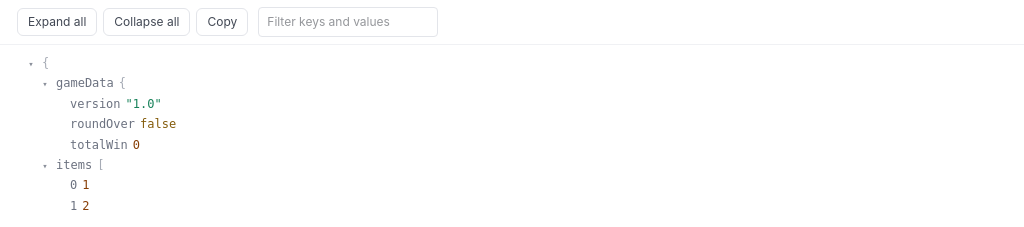
Scenario: JsonTree › hides a branch when it is collapsed, and brings it back when reopened
Click the button named "Collapse gameData".
click(45, 85)  # box [39,77,51,93]
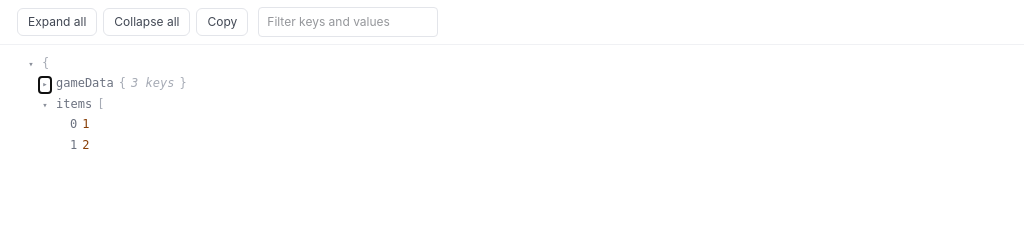
expect the text "version" is gone: met
expect the text "3 keys" is shown: met, box [131,76,174,90]
Click the button named "Expand gameData".
click(45, 85)  # box [39,77,51,93]
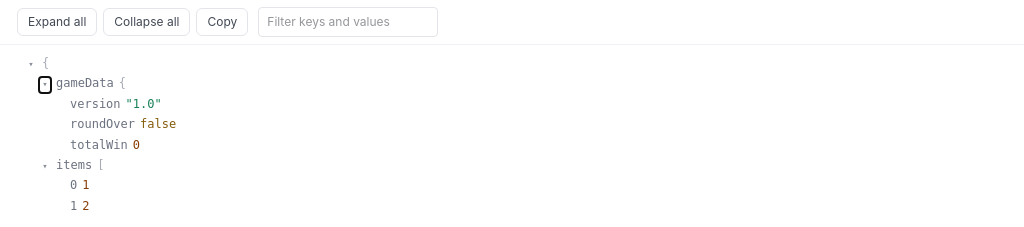
expect the text "version" is shown: met, box [70,94,121,114]
